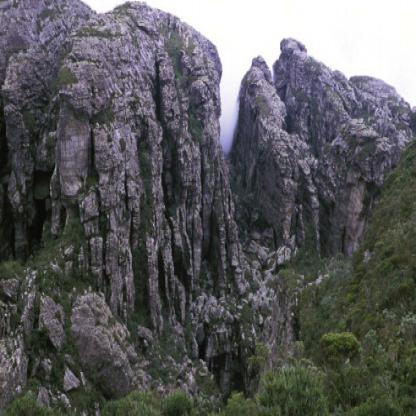Metamorphic_Quartize: (54, 5, 226, 315), (231, 49, 301, 230)
